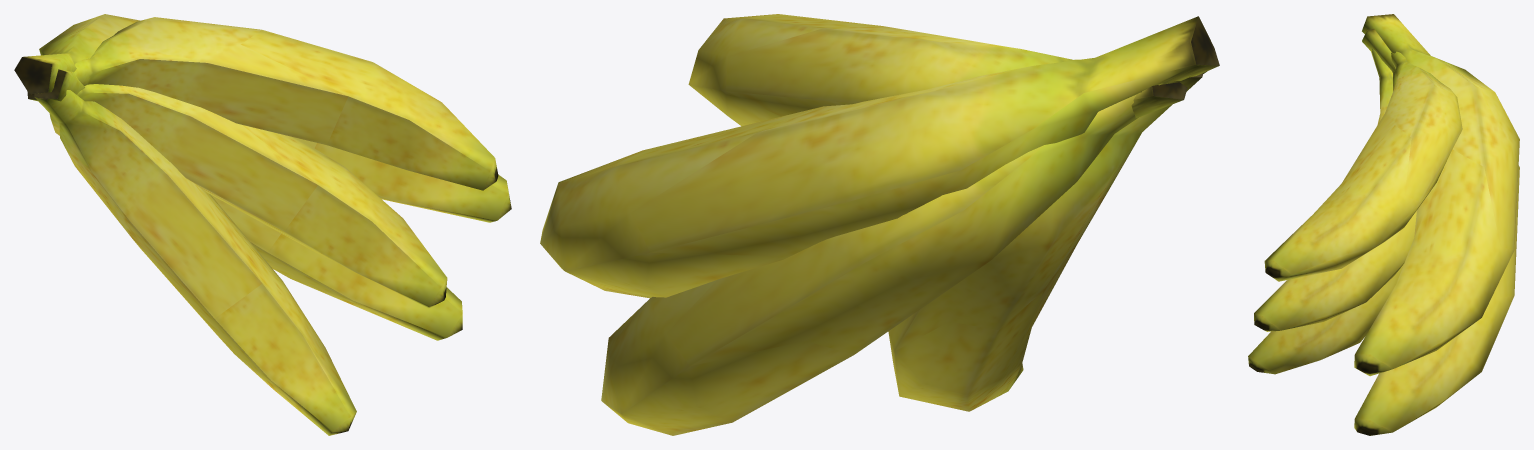
The model's file is banana_lowpoly.fbx.
3 views of the same model, side by side, from view 1: azimuth 30°, elevation 25°; view 2: azimuth 150°, elevation 25°; view 3: azimuth 270°, elevation 25° (orthographic). The views are drawn at different scales.
Visible parts, largest first — view 1: banana_lowpoly; view 2: banana_lowpoly; view 3: banana_lowpoly.
Part boxes in pixels (<box>): banana_lowpoly: <box>14,14,511,435</box>; banana_lowpoly: <box>540,14,1219,435</box>; banana_lowpoly: <box>1248,14,1519,435</box>.
Size of the model in its own units: 42.3 by 31.63 by 28.
